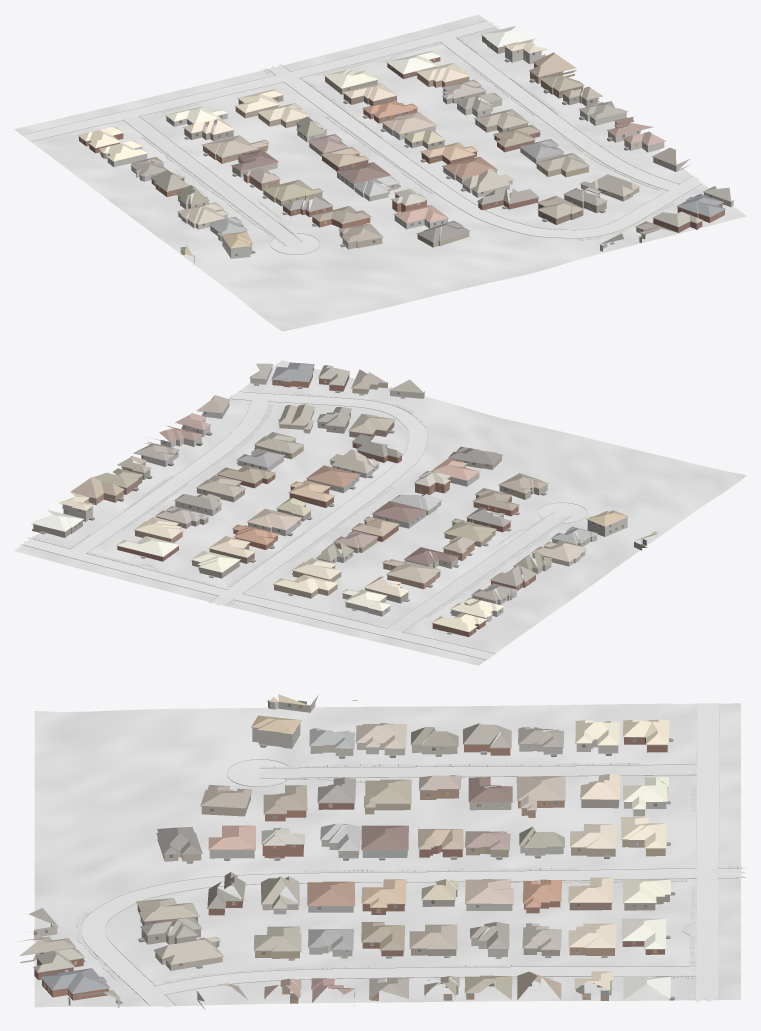
The picture shows the model from 3 angles, top to bottom: view 1: azimuth 30°, elevation 25°; view 2: azimuth 150°, elevation 25°; view 3: azimuth 270°, elevation 25°; orthographic projection. The views are drawn at different scales.
Visible parts, largest first — view 1: ground, roof, concrete, wall, asphalt, detail, curb, wall_stone, walk, wall_stucco, glass; view 2: ground, roof, concrete, wall, asphalt, detail, curb, wall_stone, walk, wall_stucco; view 3: ground, roof, concrete, wall, asphalt, curb, detail, walk, wall_stone, wall_stucco, room.
Boxes of the visible parts, x1=… form: ground: x1=14, y1=14, x2=746, y2=331; roof: x1=78, y1=26, x2=731, y2=257; concrete: x1=124, y1=38, x2=701, y2=254; wall: x1=79, y1=36, x2=724, y2=249; asphalt: x1=22, y1=22, x2=497, y2=141; detail: x1=78, y1=34, x2=733, y2=258; curb: x1=22, y1=20, x2=701, y2=254; wall_stone: x1=100, y1=47, x2=690, y2=264; walk: x1=141, y1=27, x2=673, y2=246; wall_stucco: x1=178, y1=122, x2=733, y2=251; glass: x1=82, y1=42, x2=720, y2=256; ground: x1=14, y1=360, x2=746, y2=665; roof: x1=31, y1=362, x2=658, y2=631; concrete: x1=71, y1=392, x2=587, y2=631; wall: x1=32, y1=367, x2=547, y2=636; asphalt: x1=23, y1=537, x2=494, y2=659; detail: x1=31, y1=365, x2=647, y2=634; curb: x1=21, y1=391, x2=587, y2=659; wall_stone: x1=62, y1=402, x2=646, y2=622; walk: x1=32, y1=393, x2=572, y2=624; wall_stucco: x1=144, y1=367, x2=596, y2=574; ground: x1=34, y1=703, x2=740, y2=1007; roof: x1=20, y1=694, x2=670, y2=1002; concrete: x1=81, y1=759, x2=697, y2=1007; wall: x1=20, y1=737, x2=669, y2=1000; asphalt: x1=696, y1=703, x2=746, y2=1002; curb: x1=76, y1=703, x2=746, y2=1005; detail: x1=20, y1=700, x2=675, y2=1003; walk: x1=75, y1=763, x2=741, y2=1000; wall_stone: x1=197, y1=695, x2=667, y2=1008; wall_stucco: x1=17, y1=743, x2=511, y2=1011; room: x1=68, y1=700, x2=665, y2=1003.
Bounding box in the file's own units: 265 × 14.37 × 259.
